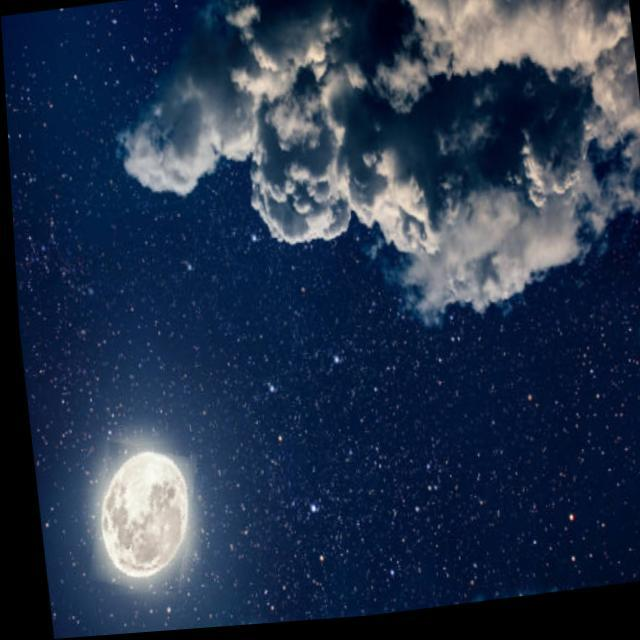moon: (77, 438, 198, 600)
